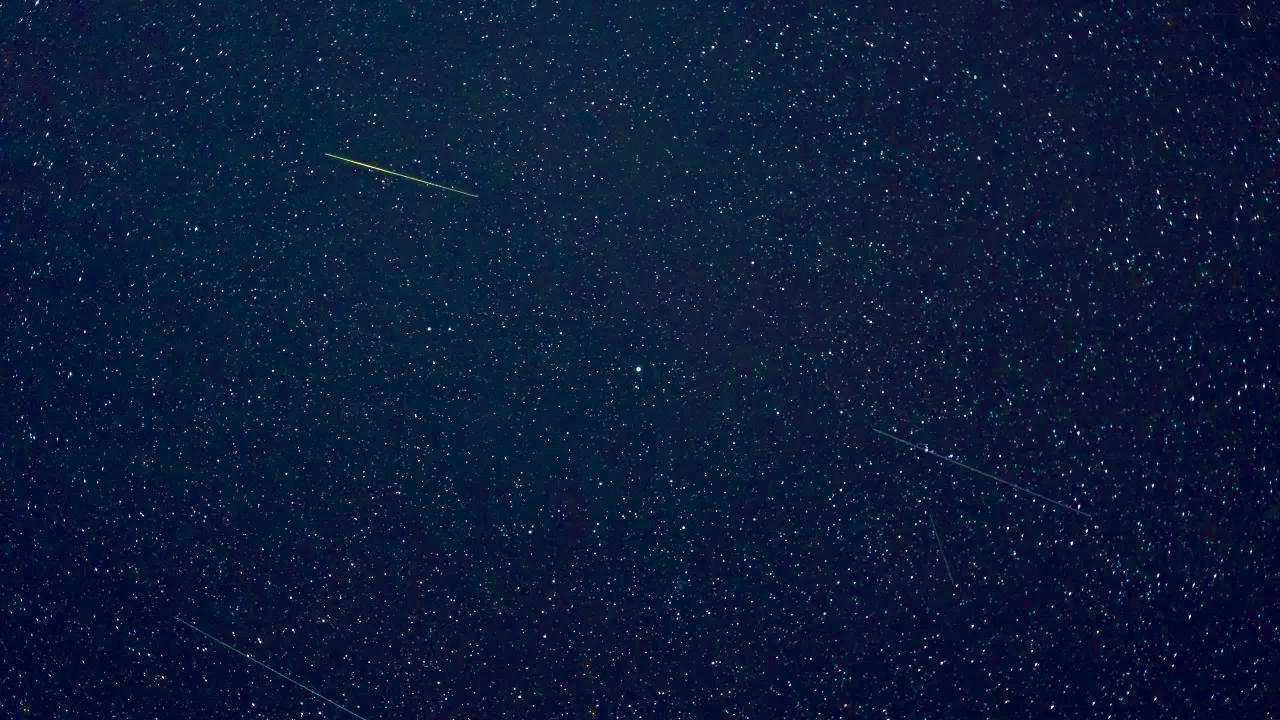meteorite: (165, 590, 365, 720), (851, 415, 1085, 524), (298, 141, 500, 226)
